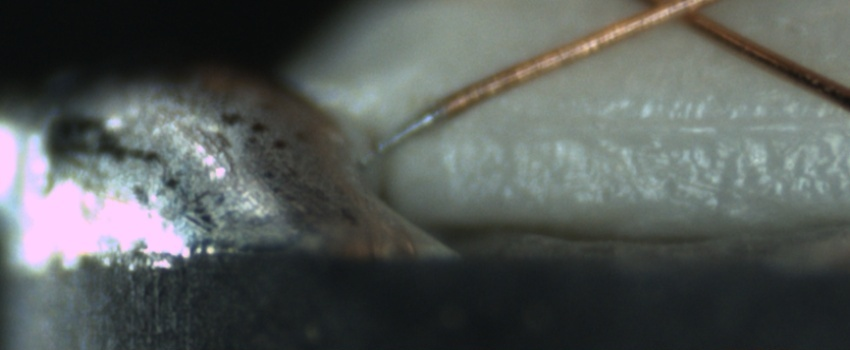CL: (616, 0, 730, 36)
DL: (515, 93, 850, 157)
TS: (354, 105, 443, 169)
TTCW: (370, 69, 511, 157)
